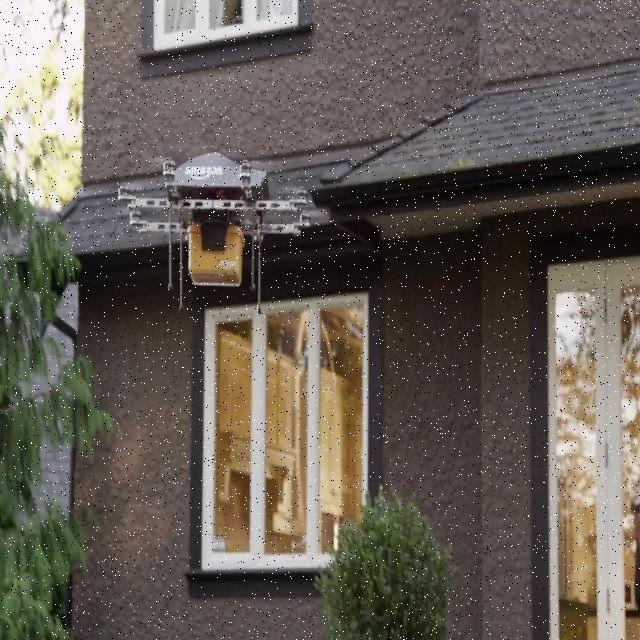UAV: (118, 152, 312, 315)
